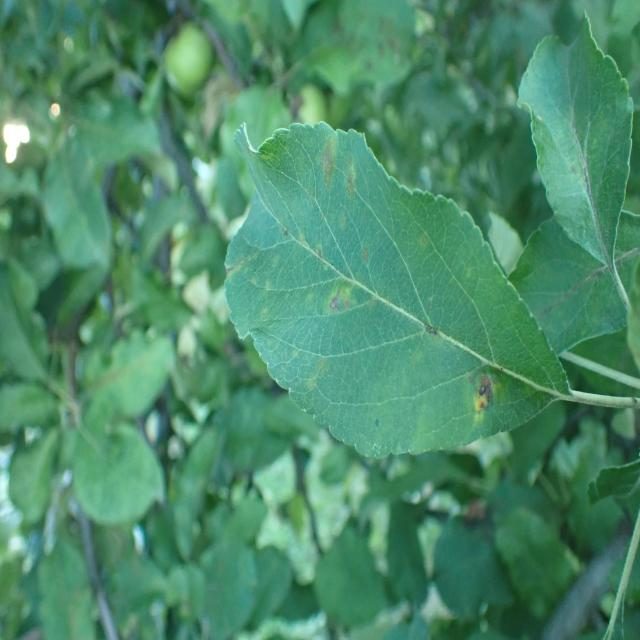scab: (244, 121, 537, 449), (536, 12, 622, 281)
